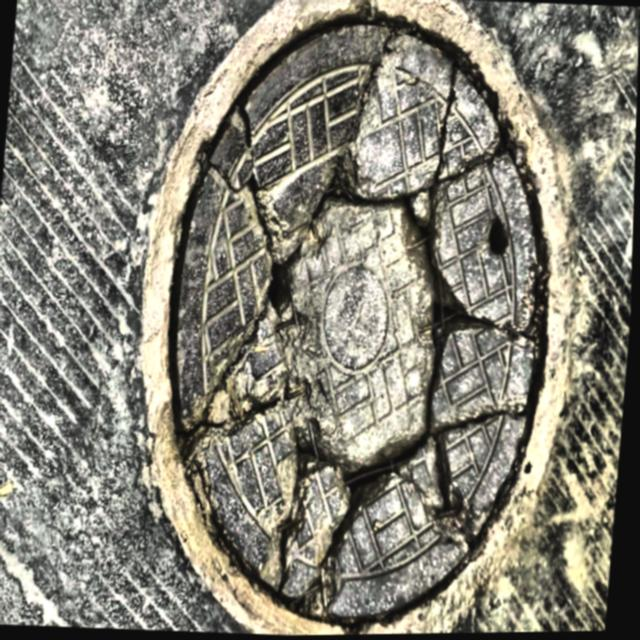open_manhole: (170, 25, 546, 620)
